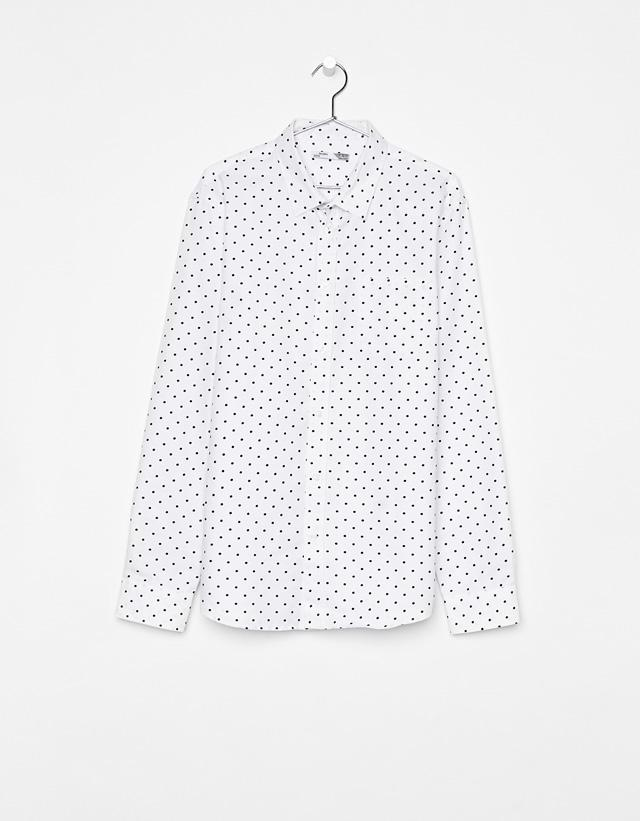teeshirt: (110, 116, 547, 665)
